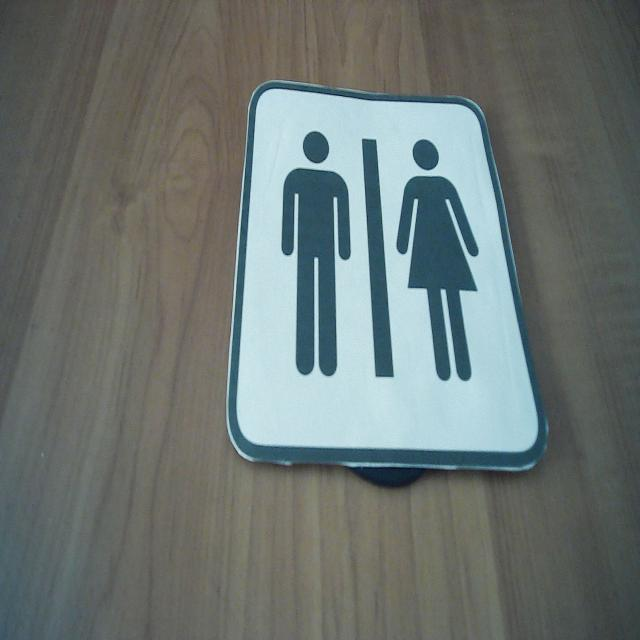restroom: (224, 76, 553, 476)
